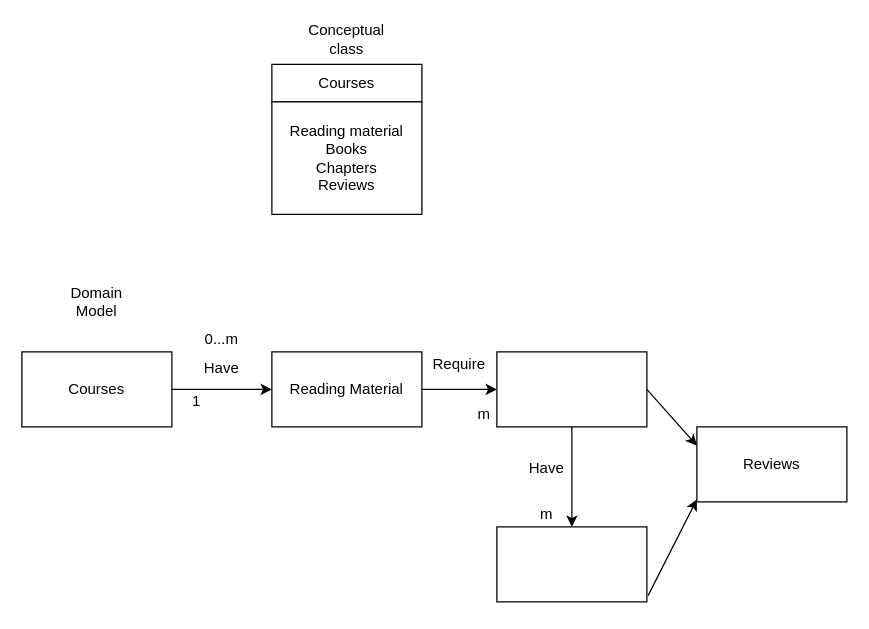
This 869x629 diagram has some shape labels left out. The box of each missing label's shape, as (x1, y1, x2, y2) in pixels:
Books: (496, 351, 647, 427)
Chapters: (496, 526, 647, 602)
